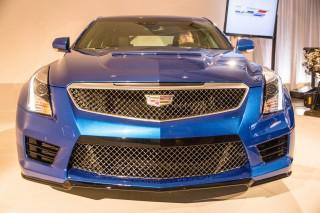cadillac: (140, 91, 180, 109)
